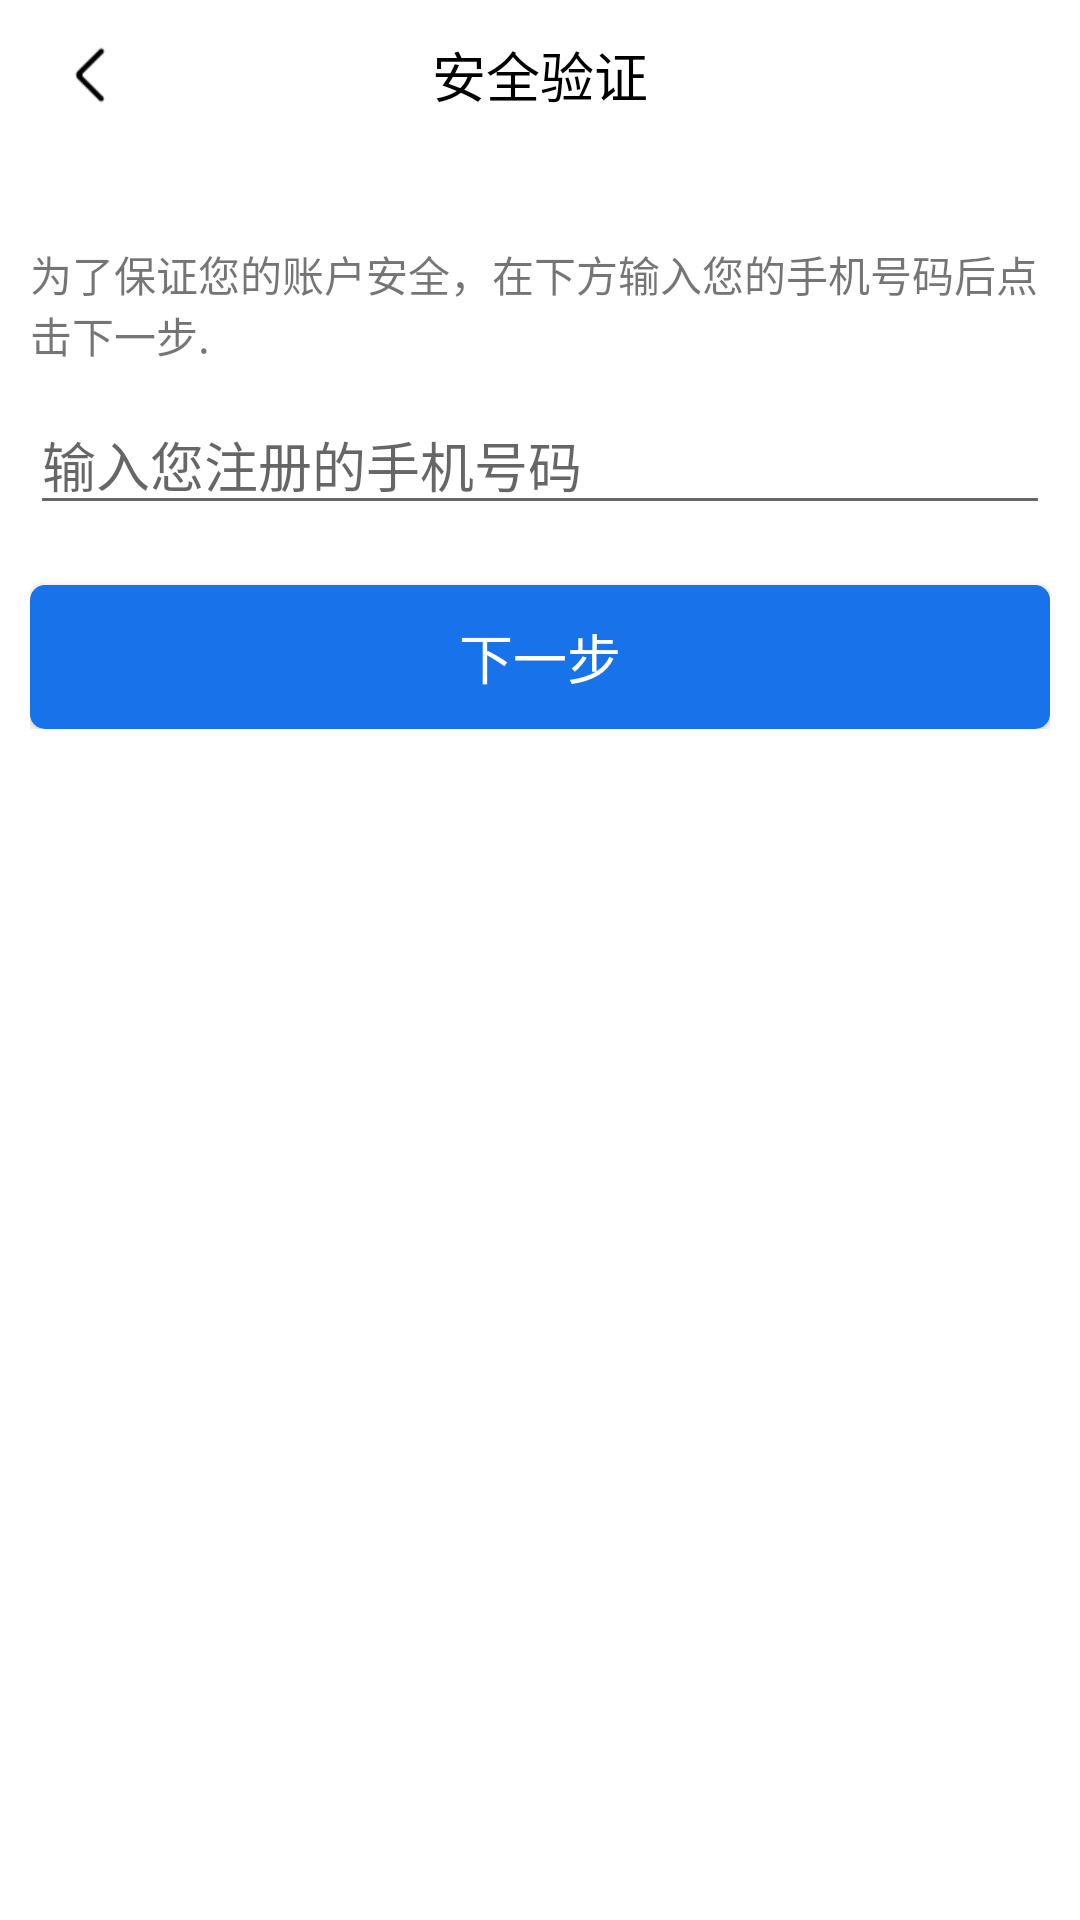

Screen size 1080x1920. Icon name, then its center in pixels as (x,y):
left: (90,75)
